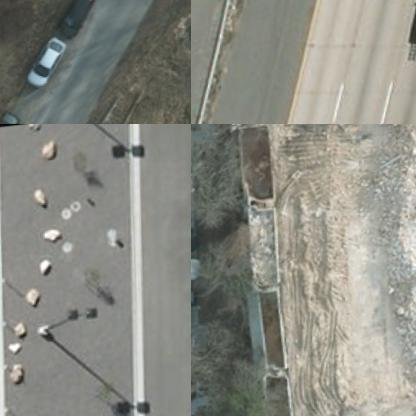car: (24, 38, 72, 89), (57, 0, 99, 47), (191, 282, 206, 315), (191, 258, 206, 288), (191, 230, 205, 259)
